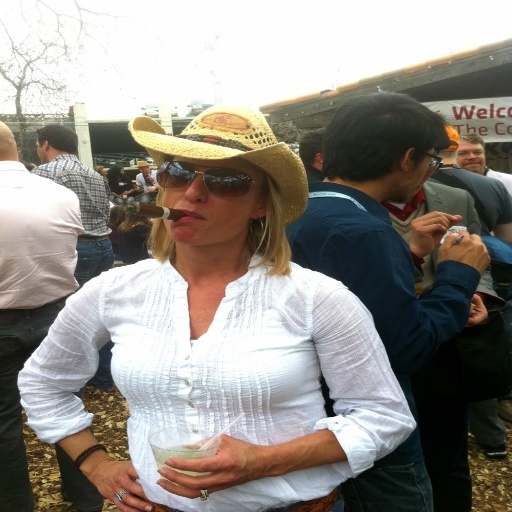hand: (150, 427, 271, 501), (85, 460, 151, 511), (433, 226, 493, 274), (409, 209, 464, 255), (464, 291, 488, 325)
